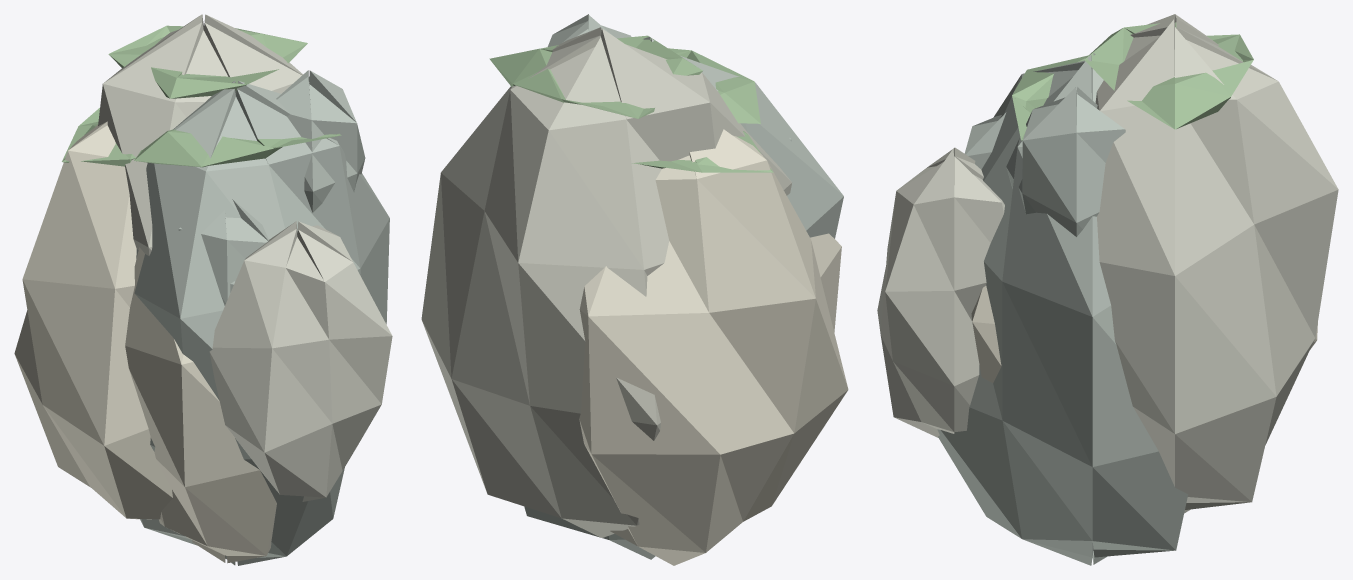
Rendered from slate_outcrop.glb.
3 views of the same model, side by side, from view 1: azimuth 30°, elevation 25°; view 2: azimuth 150°, elevation 25°; view 3: azimuth 270°, elevation 25° (orthographic). The views are drawn at different scales.
Visible parts, largest first — view 1: slate_outcrop; view 2: slate_outcrop; view 3: slate_outcrop.
Boxes of the visible parts, x1=… form: slate_outcrop: x1=14, y1=14, x2=392, y2=565; slate_outcrop: x1=421, y1=14, x2=848, y2=565; slate_outcrop: x1=877, y1=14, x2=1338, y2=565.
Size of the model in its own units: 2.91 by 4.06 by 3.08.
